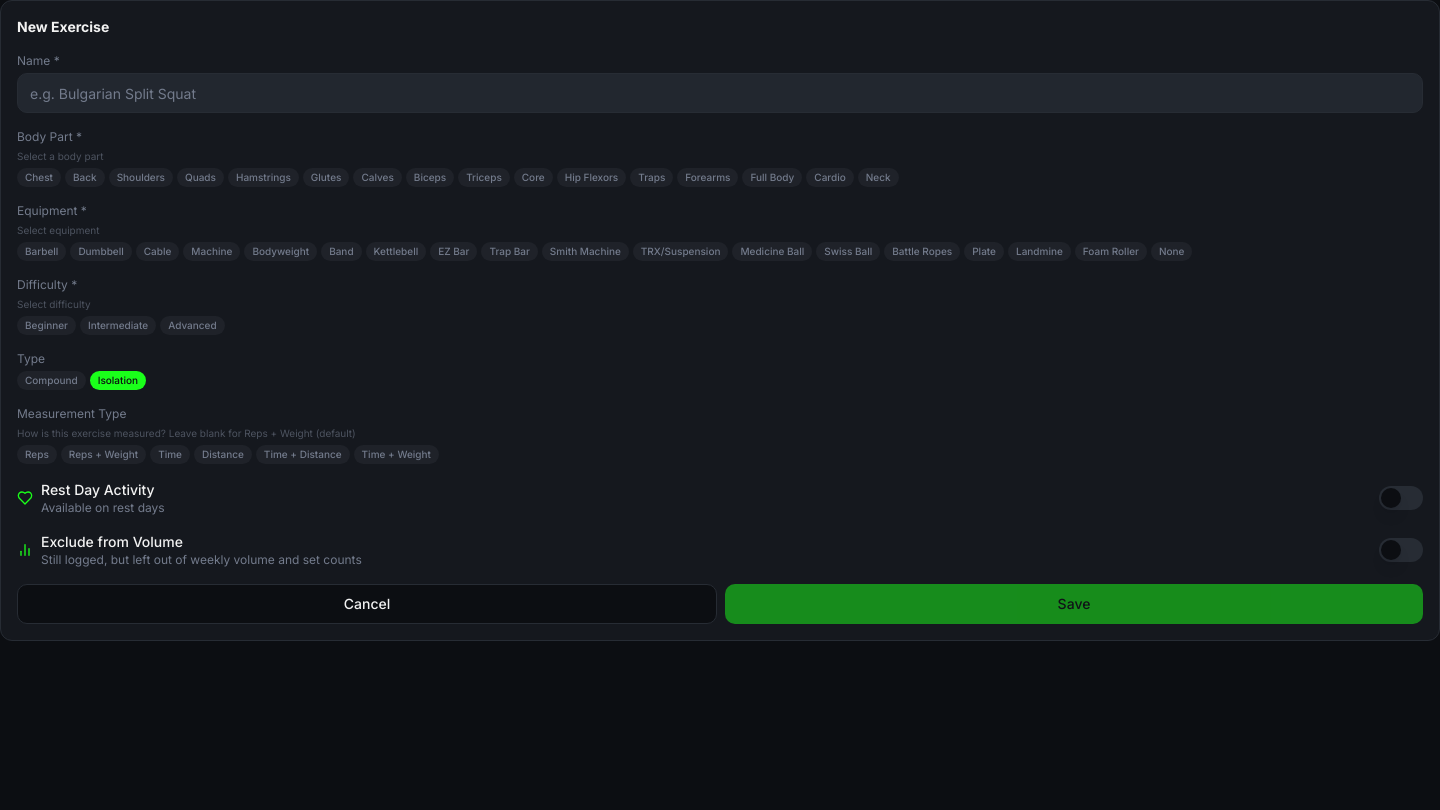
Test: CreateExerciseForm required fields › shows inline duplicate error when name matches an existing exercise
Step 1. Type "  flat barbell bench press  " into the field with placeholder "e.g. Bulgarian Split Squat" → (720, 93), box [17,73,1423,113]
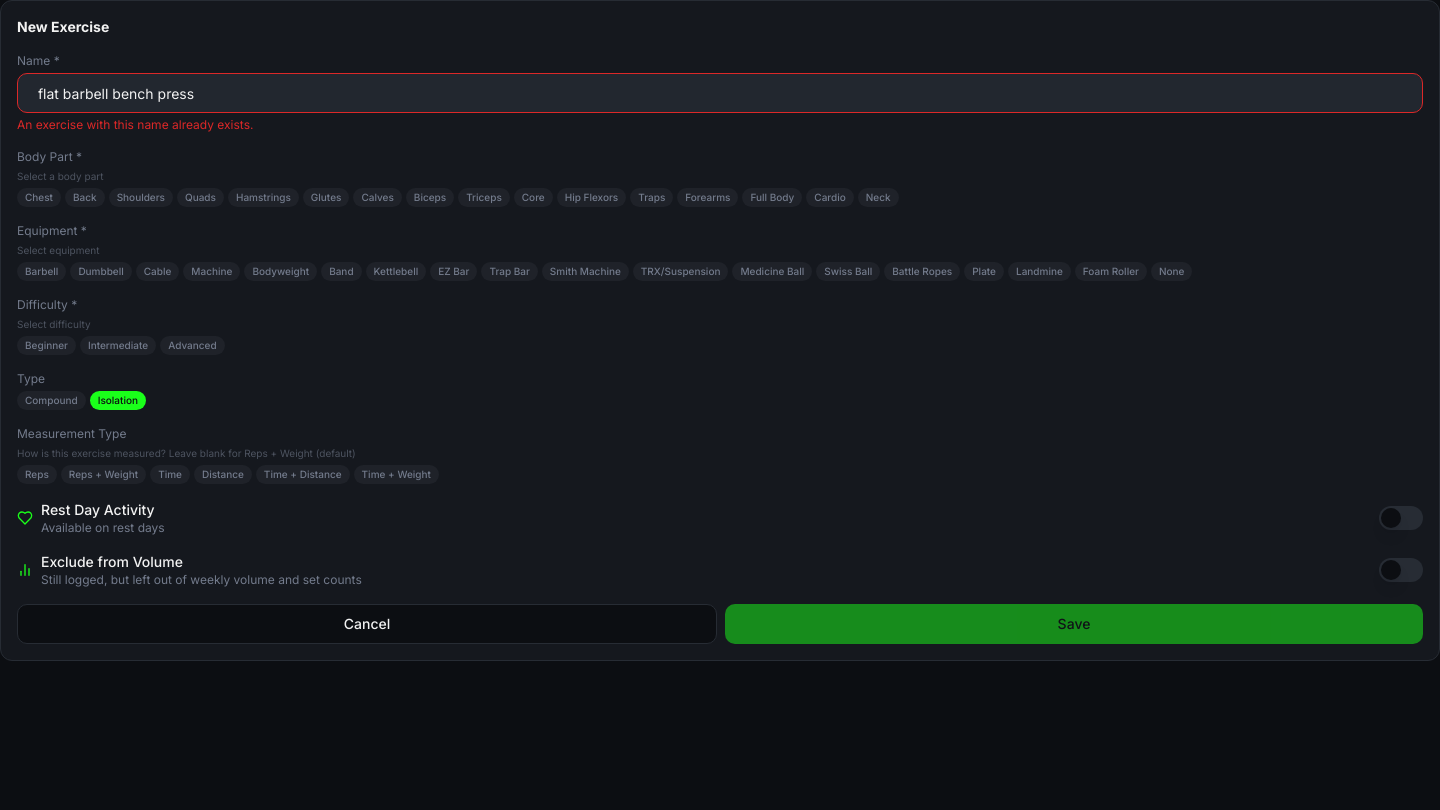
Expected: the button "Save" is disabled, [725,604,1423,644]
Expected: the text "An exercise with this name already exists." is shown, [17,117,254,132]
